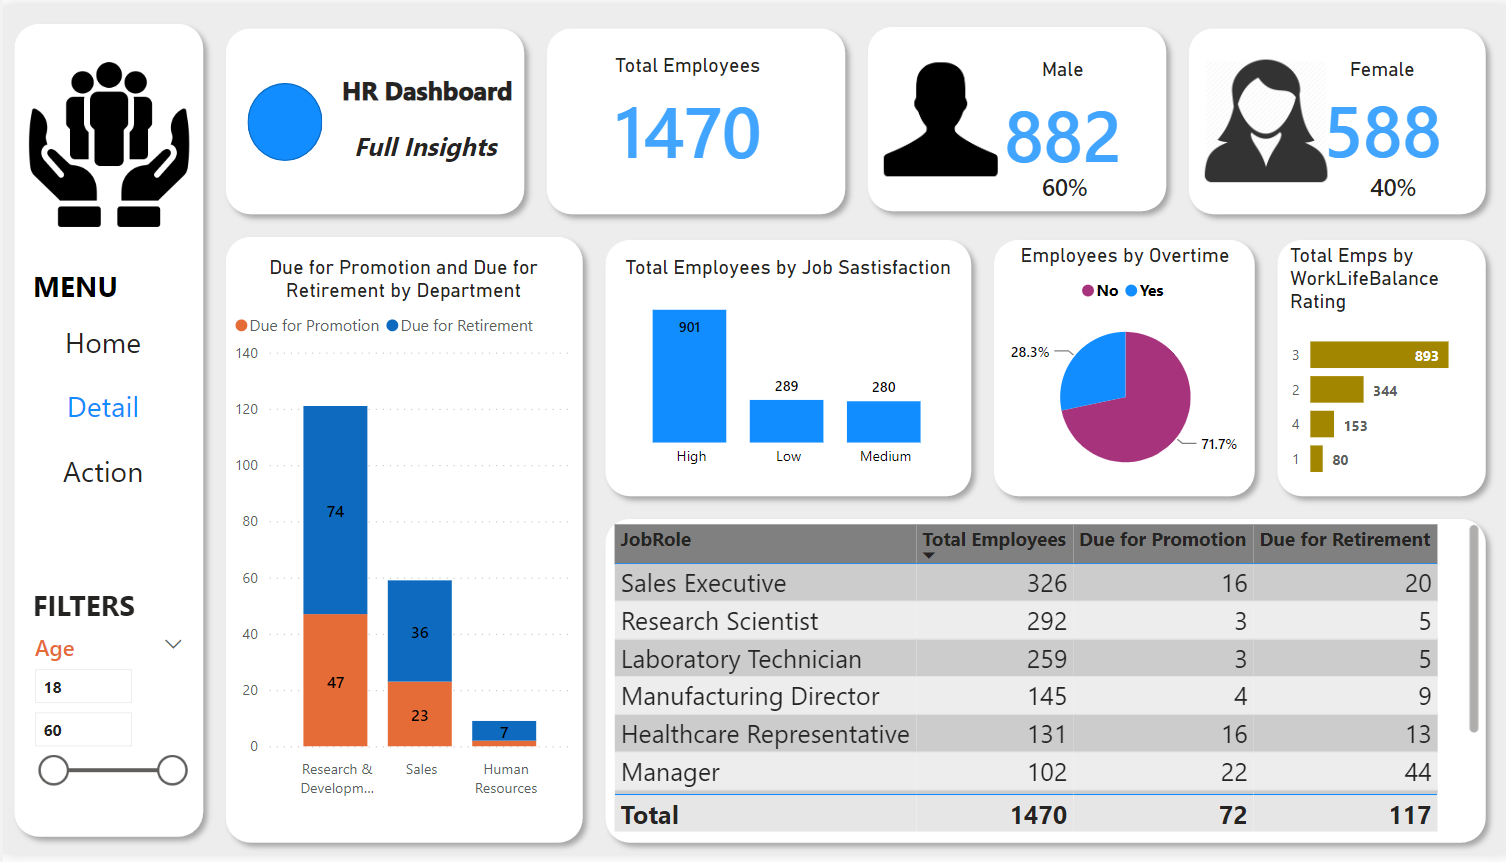

The dashboard page shown, as its layout file describes it:
{"tool":"powerbi","page":{"name":"Detail","canvas":[1280,720],"ordinal":1},"visuals":[{"type":"shape","box":[0,6.4,179.4,708.7],"z":0},{"type":"shape","box":[451.7,10.2,272.3,176.9],"z":1000},{"type":"shape","box":[179.4,10.2,272.3,176.9],"z":2000},{"type":"shape","box":[724,8.9,272.3,175.6],"z":3000},{"type":"shape","box":[996.3,10.2,271,176.9],"z":4000},{"type":"shape","box":[179.4,187,321.9,533.1],"z":5000},{"type":"shape","box":[501.3,189.6,329.5,236.7],"z":6000},{"type":"shape","box":[501.3,426.2,766,293.9],"z":7000},{"type":"shape","box":[830.9,189.6,240.5,236.7],"z":8000},{"type":"shape","box":[1071.3,189.6,195.9,236.7],"z":9000},{"type":"textbox","box":[282.5,52.2,169.2,57.3],"z":10000},{"type":"textbox","box":[292.6,99.2,150.1,42],"z":11000},{"type":"card","title":"Total Employees","fields":{"Values":["New Measures.Total Emp"]},"box":[501.3,40.7,159,105.6],"z":12000},{"type":"card","title":"Male","fields":{"Values":["New Measures.Male"]},"box":[819.4,44.5,159,105.6],"z":13000},{"type":"card","title":"Female","fields":{"Values":["New Measures.Female"]},"box":[1101.9,44.5,136.1,96.7],"z":14000},{"type":"image","box":[741.8,14,106.9,165.4],"z":15000},{"type":"image","box":[1014.1,7.6,114.5,181.9],"z":16000},{"type":"card","fields":{"Values":["New Measures.% male"]},"box":[849.9,127.2,100.5,57.3],"z":17000},{"type":"card","fields":{"Values":["New Measures.% female"]},"box":[1128.6,118.3,100.5,75.1],"z":18000},{"type":"tableEx","title":"Total Employees","fields":{"Values":["HR Analytics Data.JobRole","New Measures.Total Employees","New Measures.Due for Promotion","New Measures.Due for Retirement"]},"box":[512.8,435.1,744.3,271],"z":20000},{"type":"columnChart","title":"Due for Promotion and Due for Retirement by Department","fields":{"Y":["New Measures.Due for Promotion","New Measures.Due for Retirement"],"Category":["HR Analytics Data.Department"]},"box":[190.9,212.5,297.7,467],"z":21000},{"type":"columnChart","title":"Total Employees by Job Sastisfaction","fields":{"Y":["New Measures.Total Employees"],"Category":["HR Analytics Data.Job Satisfaction Level"]},"box":[512.8,212.5,306.6,188.3],"z":22000},{"type":"pieChart","title":"Employees by Overtime","fields":{"Category":["HR Analytics Data.OverTime"],"Y":["New Measures.Total Employees"]},"box":[842.3,202.3,218.8,211.2],"z":23000},{"type":"clusteredBarChart","title":"Total Emps by WorkLifeBalance Rating","fields":{"Category":["HR Analytics Data.WorkLifeBalance"],"Y":["New Measures.Total Employees"]},"box":[1086.6,202.3,170.5,211.2],"z":24000},{"type":"slicer","fields":{"Values":["HR Analytics Data.Age"]},"box":[14,526.8,150.1,151.4],"z":25000},{"type":"textbox","box":[20.4,216.3,137.4,45.8],"z":26000},{"type":"textbox","box":[20.4,487.3,129.8,50.9],"z":27000},{"type":"shape","box":[207.4,66.2,63.6,66.2],"z":28000},{"type":"image","box":[0,33.1,179.4,170.5],"z":29000},{"type":"pageNavigator","title":"Menu","box":[20.4,262.1,129.8,157.8],"z":30000}]}

Visuals, with their boxes in screenshot pixels (x1, y1, x2, y2), scaled from the page's 1280x720 canvas onto the 1506x862 screenshot:
shape: Rect(0, 8, 211, 856)
shape: Rect(531, 12, 852, 224)
shape: Rect(211, 12, 531, 224)
shape: Rect(852, 11, 1172, 221)
shape: Rect(1172, 12, 1491, 224)
shape: Rect(211, 224, 590, 861)
shape: Rect(590, 227, 977, 510)
shape: Rect(590, 510, 1491, 861)
shape: Rect(978, 227, 1261, 510)
shape: Rect(1260, 227, 1491, 510)
textbox: Rect(332, 62, 531, 131)
textbox: Rect(344, 119, 521, 169)
"Total Employees" card: Rect(590, 49, 777, 175)
"Male" card: Rect(964, 53, 1151, 180)
"Female" card: Rect(1296, 53, 1457, 169)
image: Rect(873, 17, 999, 215)
image: Rect(1193, 9, 1328, 227)
card - New Measures.% male: Rect(1000, 152, 1118, 221)
card - New Measures.% female: Rect(1328, 142, 1446, 232)
"Total Employees" tableEx: Rect(603, 521, 1479, 845)
"Due for Promotion and Due for Retirement by Department" columnChart: Rect(225, 254, 575, 814)
"Total Employees by Job Sastisfaction" columnChart: Rect(603, 254, 964, 480)
"Employees by Overtime" pieChart: Rect(991, 242, 1248, 495)
"Total Emps by WorkLifeBalance Rating" clusteredBarChart: Rect(1278, 242, 1479, 495)
slicer - HR Analytics Data.Age: Rect(16, 631, 193, 812)
textbox: Rect(24, 259, 186, 314)
textbox: Rect(24, 583, 177, 644)
shape: Rect(244, 79, 319, 159)
image: Rect(0, 40, 211, 244)
"Menu" pageNavigator: Rect(24, 314, 177, 503)
